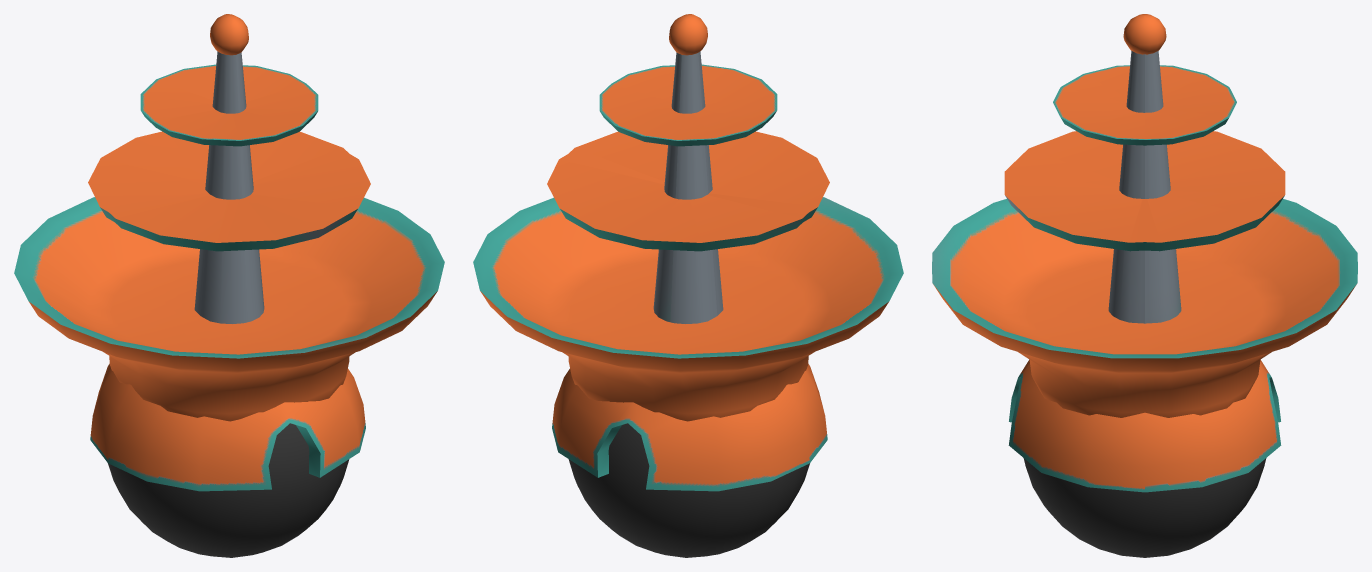
The model's file is Weapon Largest.fbx.
3 views of the same model, side by side, from view 1: azimuth 30°, elevation 25°; view 2: azimuth 150°, elevation 25°; view 3: azimuth 270°, elevation 25° (orthographic).
Parts seen in each view (by area): view 1: Weapon1, PivotBottom; view 2: Weapon1, PivotBottom; view 3: Weapon1, PivotBottom.
Part boxes in pixels (x1,y1,x2,y2): Weapon1: [14, 14, 444, 491]; PivotBottom: [108, 423, 349, 557]; Weapon1: [473, 14, 903, 491]; PivotBottom: [568, 423, 809, 557]; Weapon1: [932, 14, 1357, 492]; PivotBottom: [1023, 458, 1266, 557].
Size of the model in its own units: 71.43 by 70.98 by 97.77.
